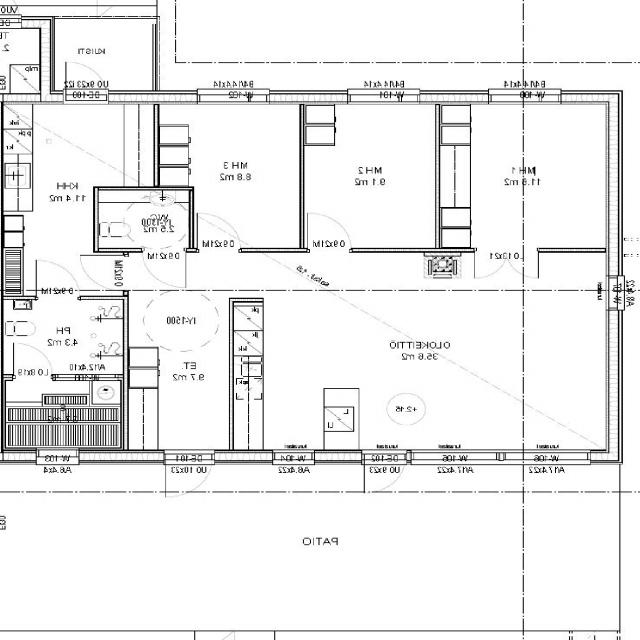door: (166, 450, 212, 502), (365, 450, 405, 497), (67, 58, 106, 104), (80, 255, 129, 291), (36, 260, 80, 300), (197, 212, 241, 252), (143, 248, 186, 288), (308, 214, 351, 252), (14, 344, 51, 381), (507, 248, 539, 278), (476, 248, 507, 278), (0, 0, 20, 29)
